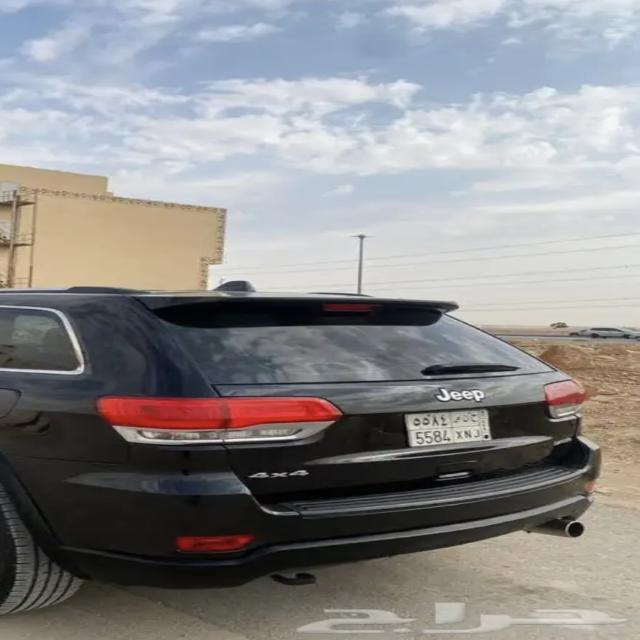license_plate: (403, 414, 493, 444)
